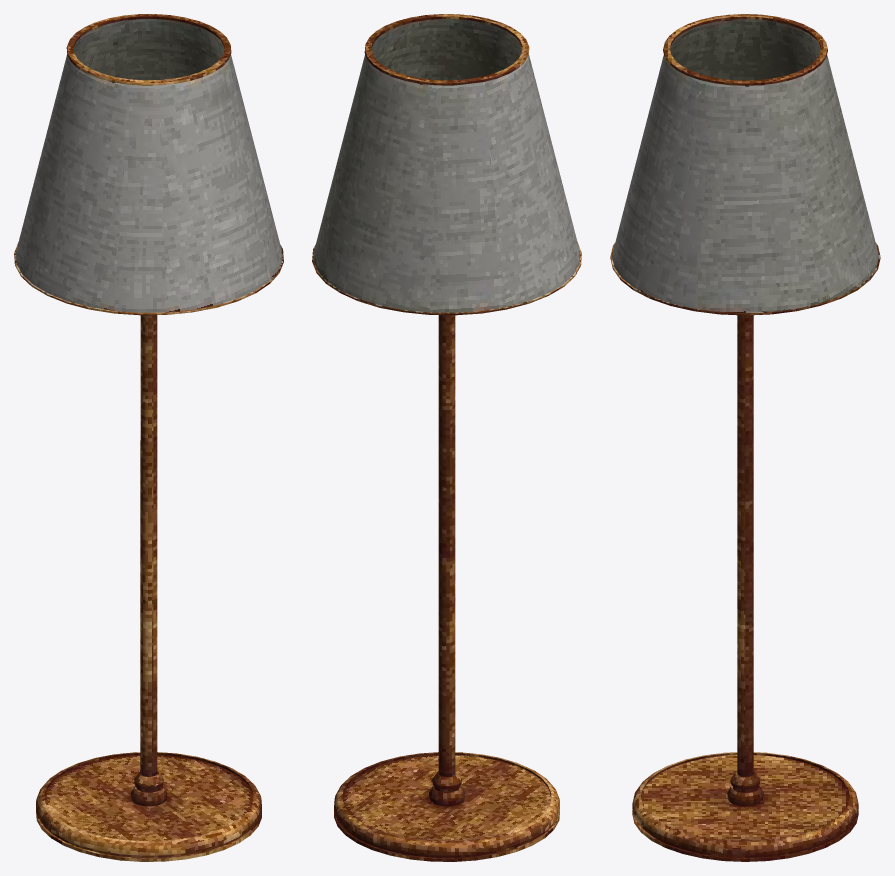
Rendered from gg_floor_lamp.glb.
3 renders of one model, left to right at view 1: azimuth 30°, elevation 25°; view 2: azimuth 150°, elevation 25°; view 3: azimuth 270°, elevation 25°, orthographic.
Visible parts, largest first — view 1: mesh; view 2: mesh; view 3: mesh.
Part boxes in pixels (x1=…): mesh: x1=14, y1=14, x2=283, y2=861; mesh: x1=312, y1=14, x2=581, y2=861; mesh: x1=610, y1=14, x2=880, y2=861.
Size of the model in its own units: 0.4958 by 1.55 by 0.4958.
Materials: 1 (1 with a texture image).
